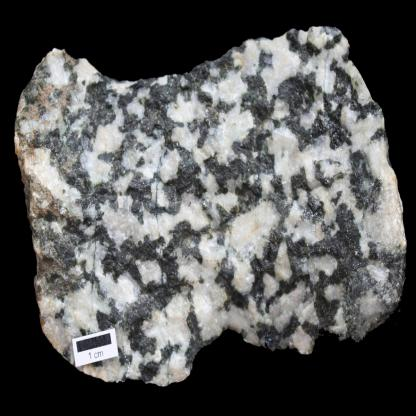Igneous_Diorite: (8, 20, 411, 386)
